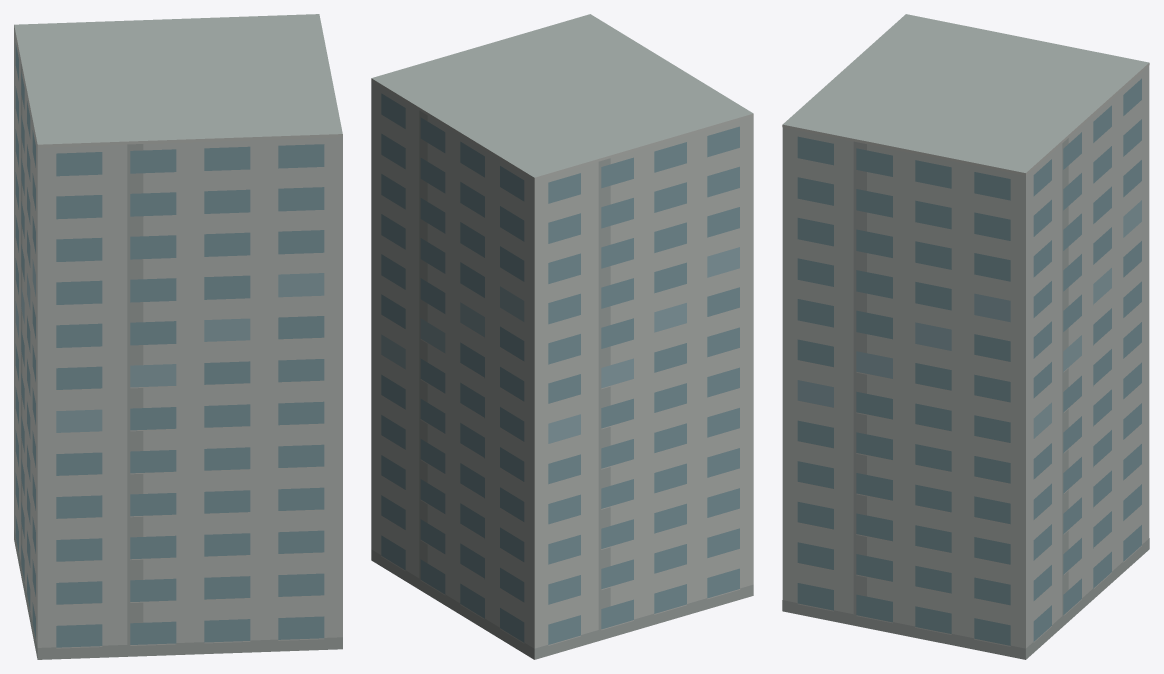
File: residential-69c6a0d5-0e05-4f0f-8301-206c44e49939.glb
The picture shows the model from 3 angles, left to right: view 1: azimuth 30°, elevation 25°; view 2: azimuth 150°, elevation 25°; view 3: azimuth 270°, elevation 25°; orthographic projection. The views are drawn at different scales.
Visible parts, largest first — view 1: residential-69c6a0d5-0e05-4f0f-8301-206c44e49939.tmp; view 2: residential-69c6a0d5-0e05-4f0f-8301-206c44e49939.tmp; view 3: residential-69c6a0d5-0e05-4f0f-8301-206c44e49939.tmp.
Boxes of the visible parts, x1,y1,x2,y2 form: residential-69c6a0d5-0e05-4f0f-8301-206c44e49939.tmp: (14,14,342,659); residential-69c6a0d5-0e05-4f0f-8301-206c44e49939.tmp: (371,14,753,659); residential-69c6a0d5-0e05-4f0f-8301-206c44e49939.tmp: (782,14,1149,659).
Size of the model in its own units: 30.16 by 43 by 29.39.
